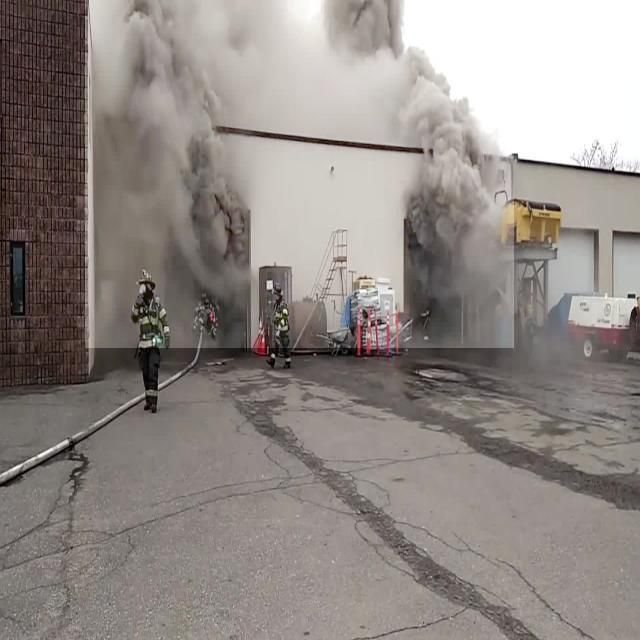Smoke: (85, 0, 514, 348)
